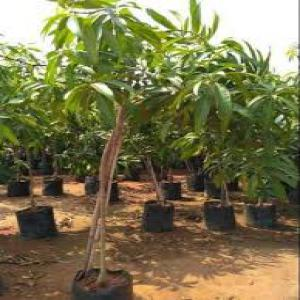Tree: (28, 9, 216, 296)
